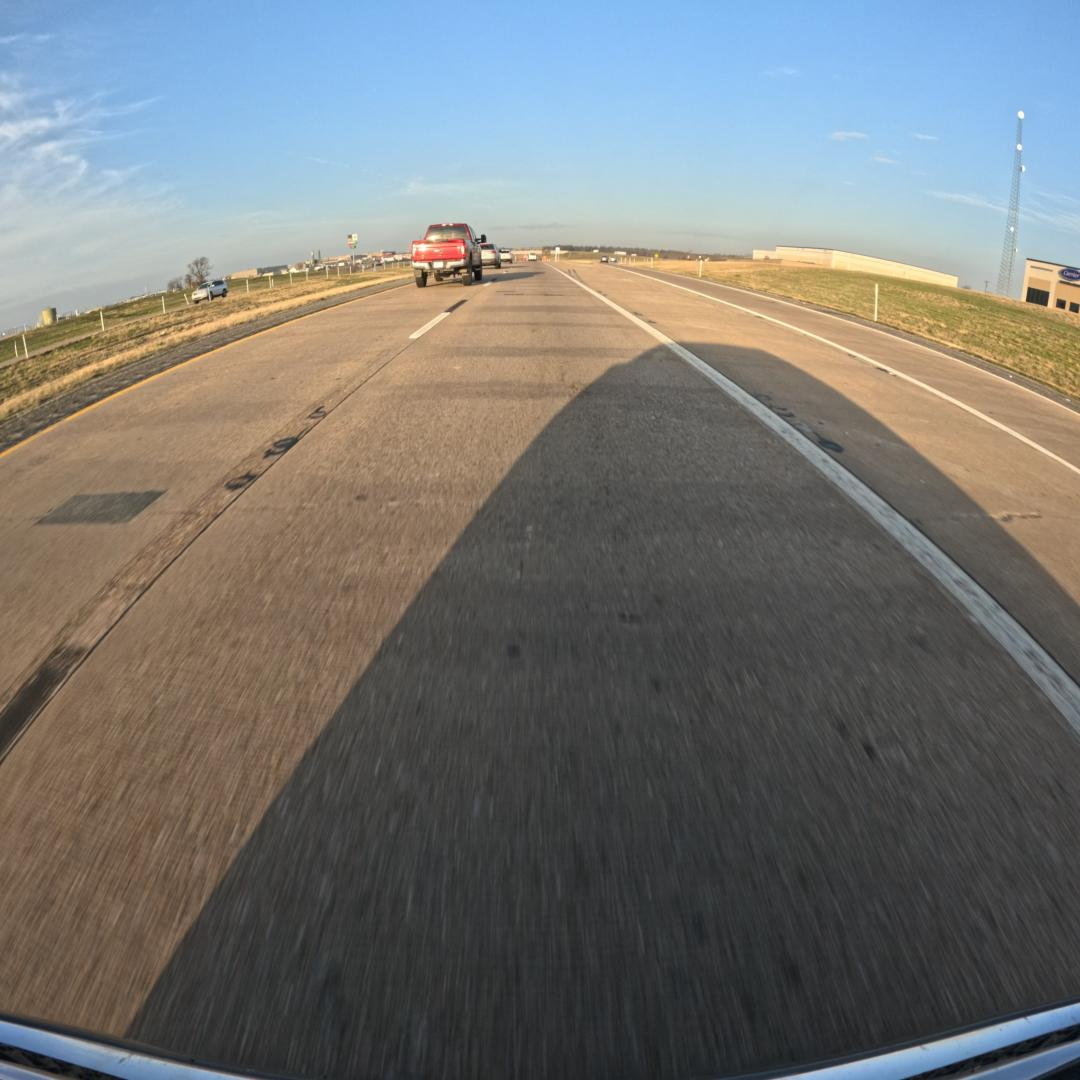lane0: (0, 271, 1080, 1077)
lane1: (0, 274, 503, 760)
